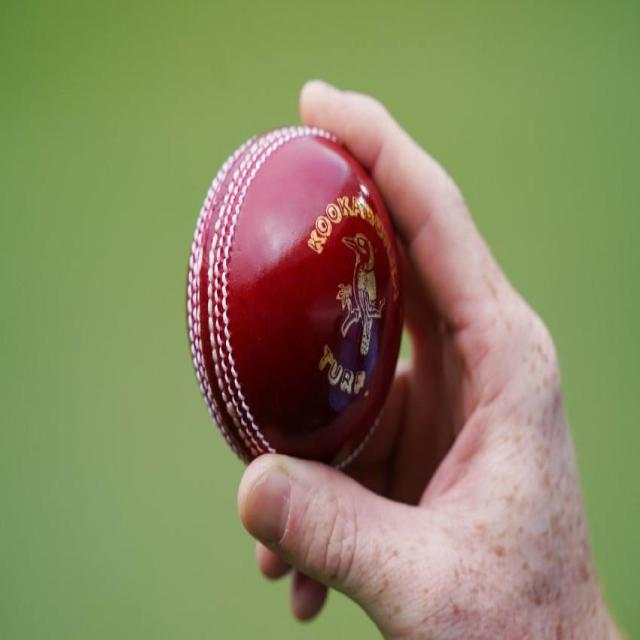ball: (185, 124, 408, 479)
